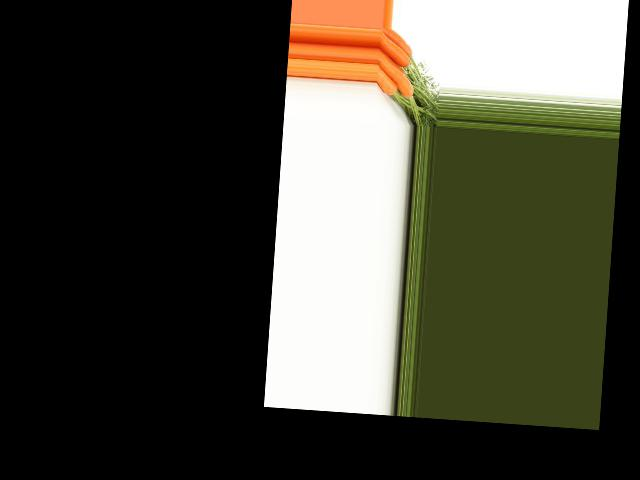carrot: (375, 66, 400, 95)
